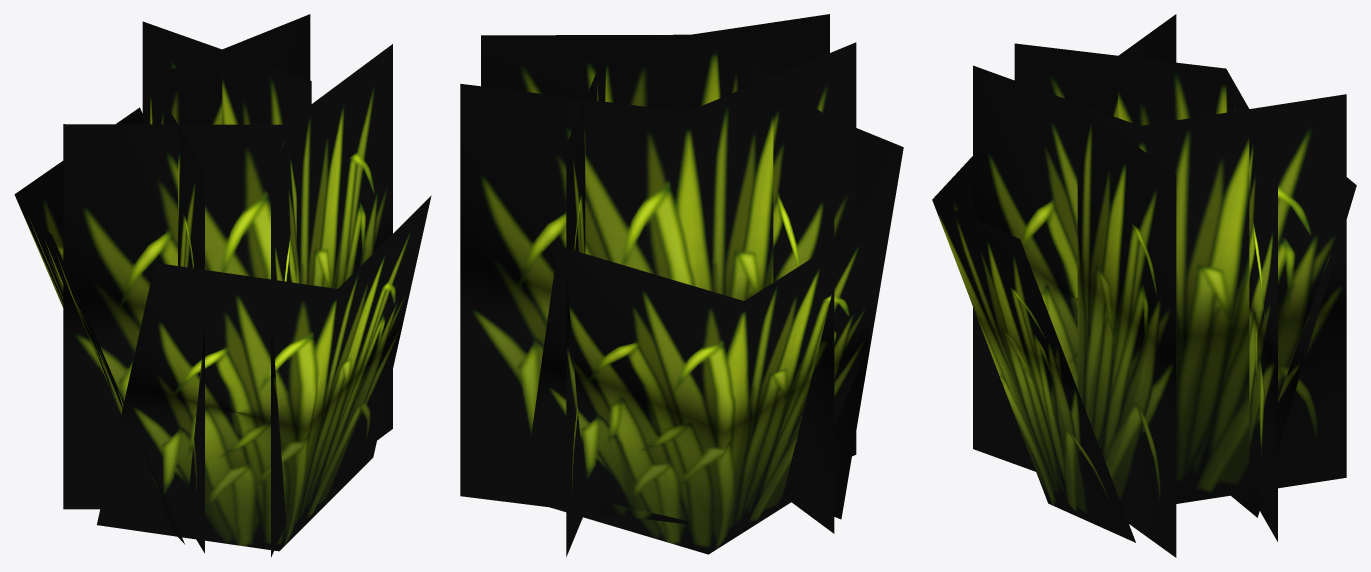
File: bushes1.fbx
The picture shows the model from 3 angles, left to right: view 1: azimuth 30°, elevation 25°; view 2: azimuth 150°, elevation 25°; view 3: azimuth 270°, elevation 25°; orthographic projection. The views are drawn at different scales.
Visible parts, largest first — view 1: bush_1; view 2: bush_1; view 3: bush_1.
Part boxes in pixels (bbox=[...]): bush_1: bbox=[14, 14, 431, 557]; bush_1: bbox=[460, 14, 903, 556]; bush_1: bbox=[932, 14, 1356, 557].
Size of the model in its own units: 6.6 by 7.32 by 6.78.
Materials: 1 (1 with a texture image).
